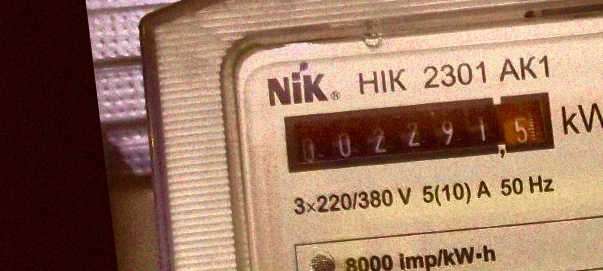0: (297, 132, 318, 163), (334, 128, 354, 158)
1: (472, 110, 490, 146)
2: (369, 123, 388, 154), (404, 117, 421, 148)
5: (511, 112, 530, 144)
9: (438, 115, 457, 147)
screen: (277, 78, 561, 187)
